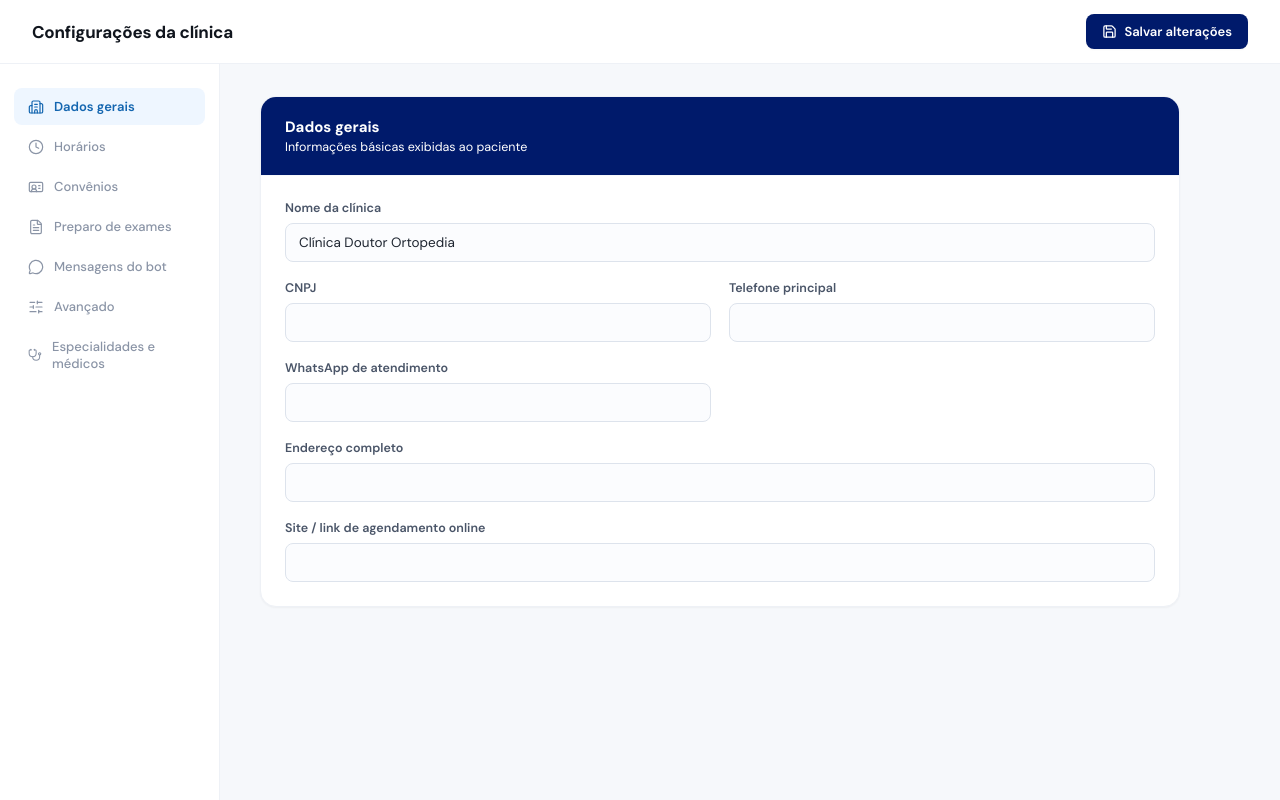
ClinicConfig › adiciona um médico com o valor da consulta
The width and height of the screenshot is (1280, 800).
Check: the text "Configurações da clínica" is shown, box x1=32 y1=20 x2=233 y2=42
Click the text "Especialidades e médicos": (92,355) x1=28 y1=338 x2=155 y2=372
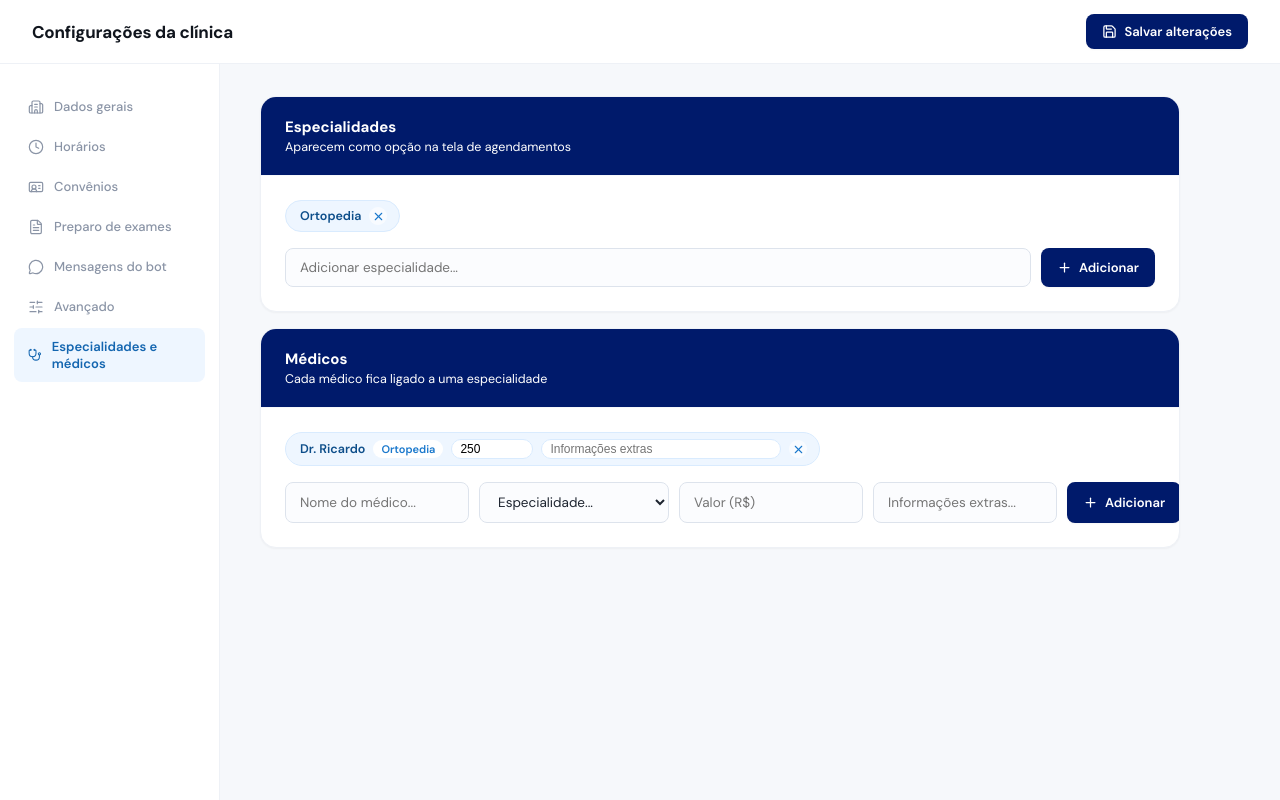
In the field with placeholder "Nome do médico...": (377,502) x1=285 y1=482 x2=469 y2=523, type "Dr. Paulo"
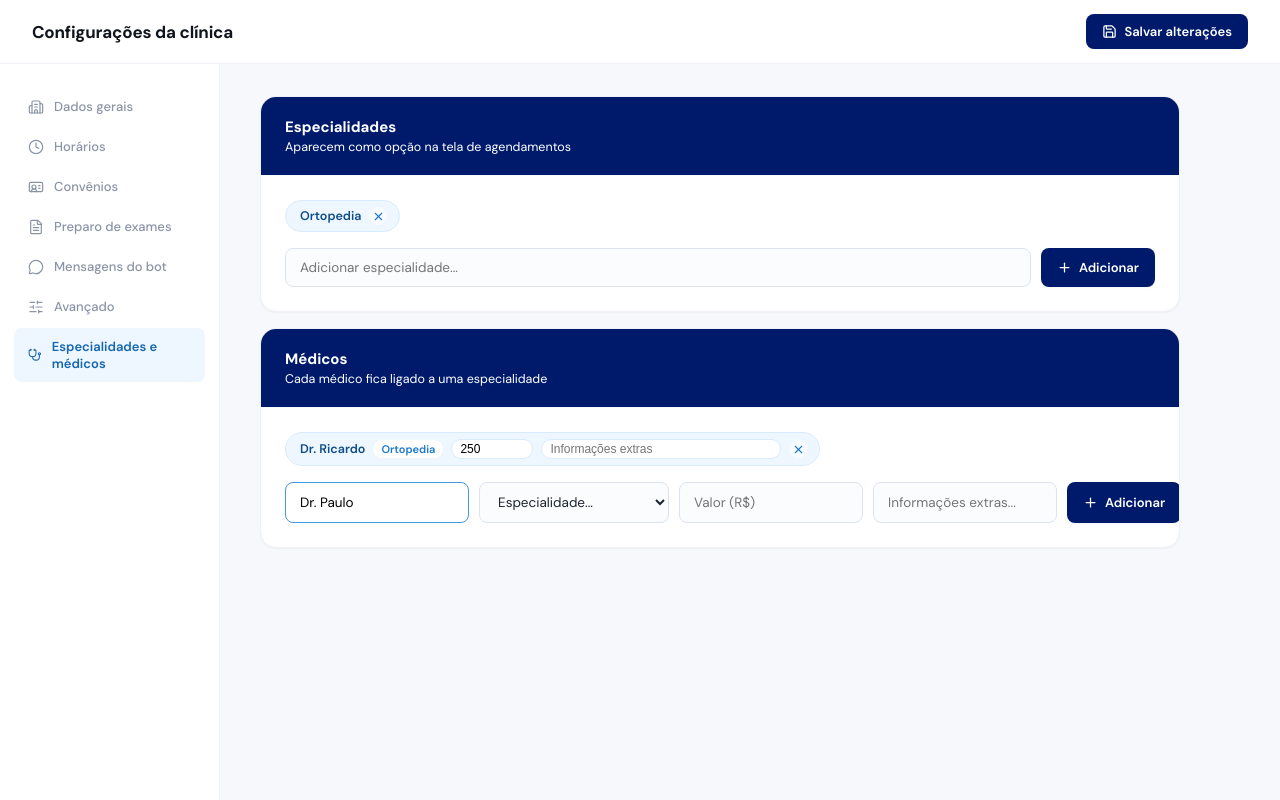
Select "Ortopedia" in the dropdown: (574,502) x1=479 y1=482 x2=669 y2=523
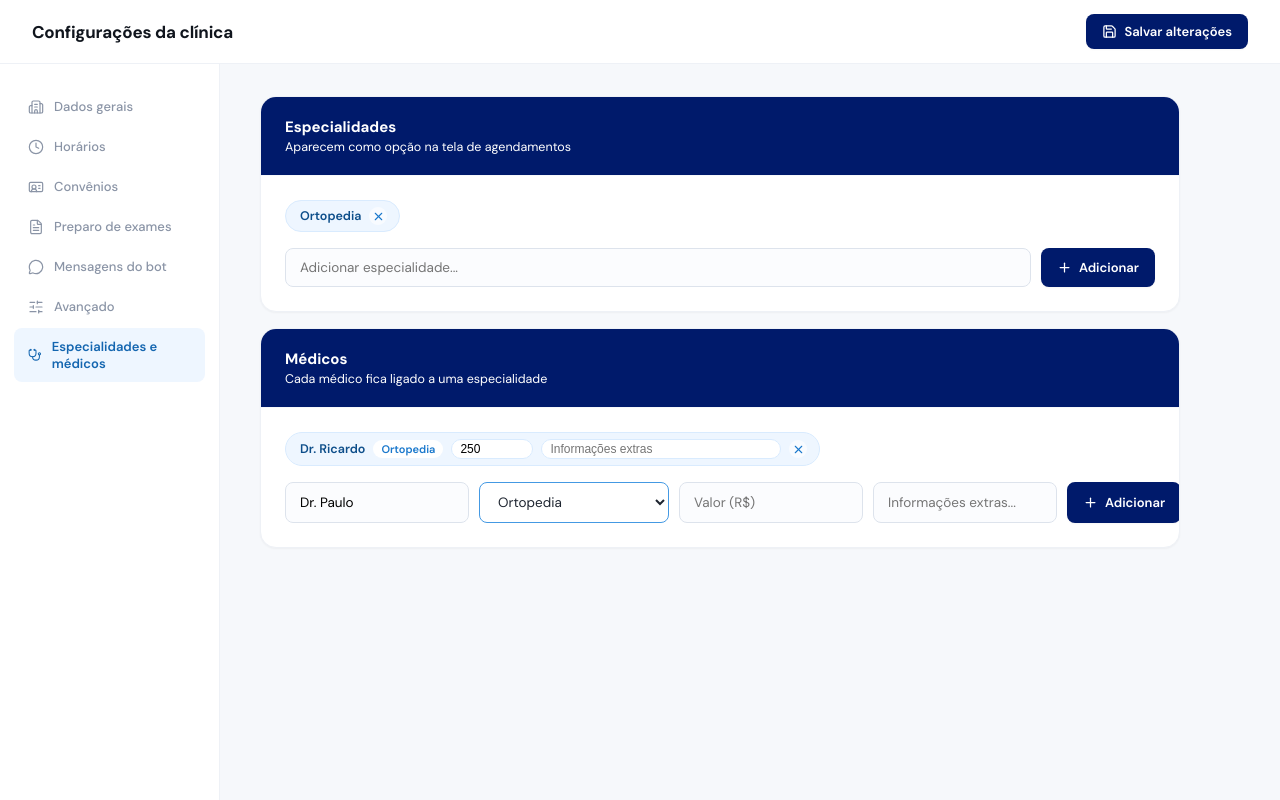
In the number field with placeholder "Valor (R$)": (771,502) x1=679 y1=482 x2=863 y2=523, type "300"
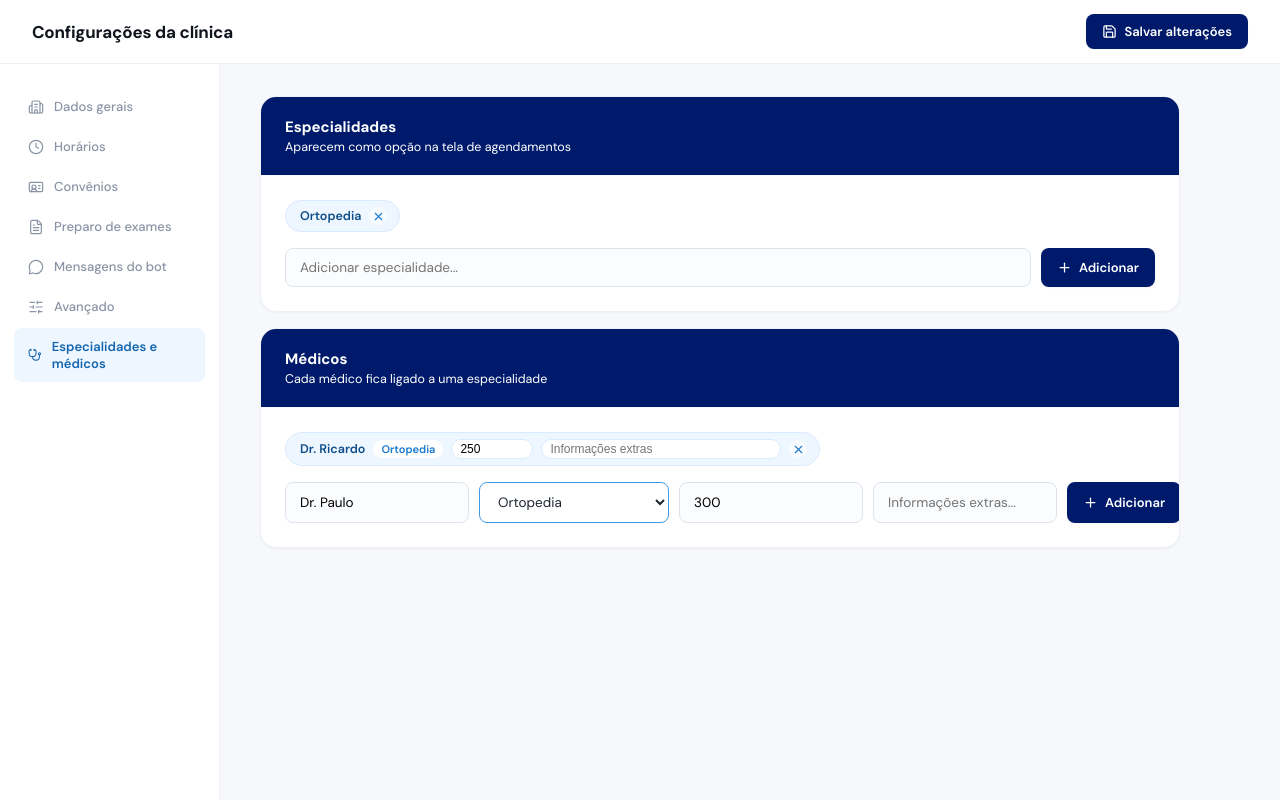
Click the 2nd button "Adicionar": (1124,502) x1=1067 y1=482 x2=1181 y2=523
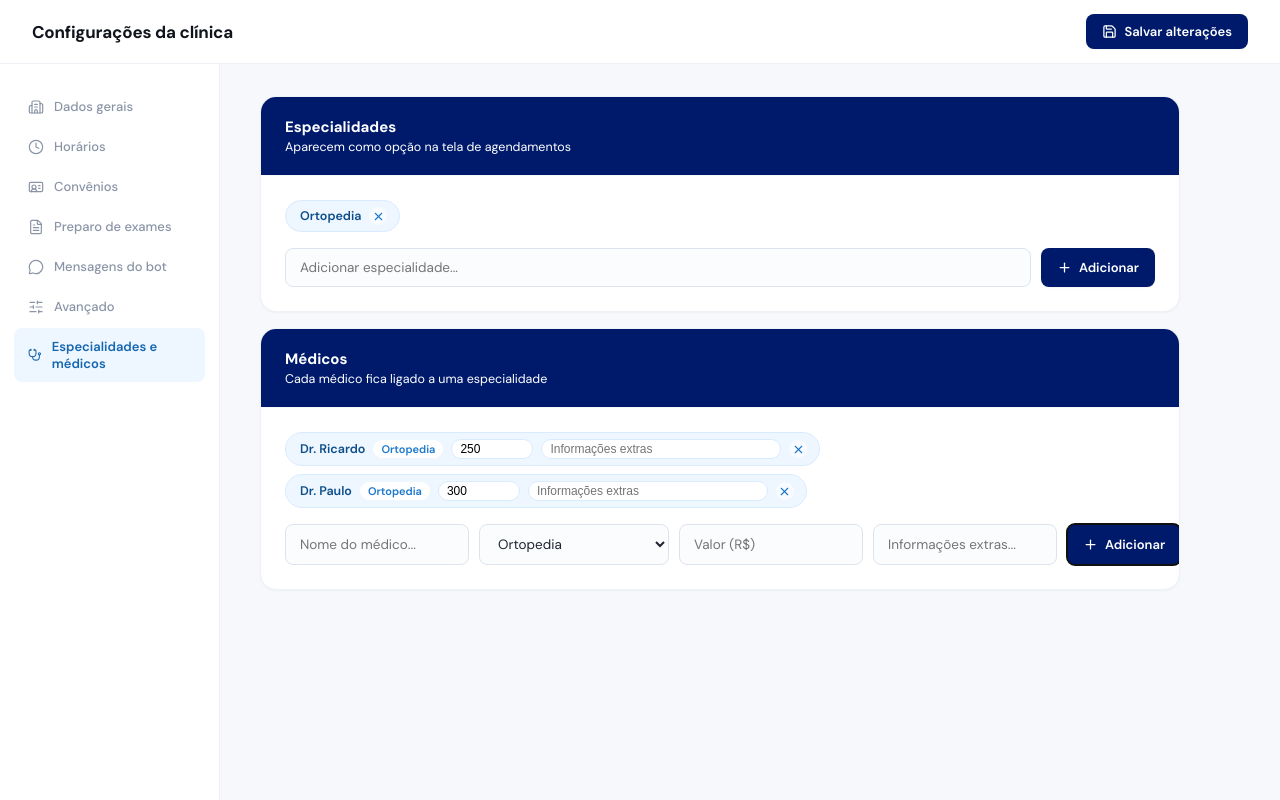
Check: the number field named "Valor da consulta de Dr. Paulo" holds "300", box x1=438 y1=481 x2=520 y2=501
